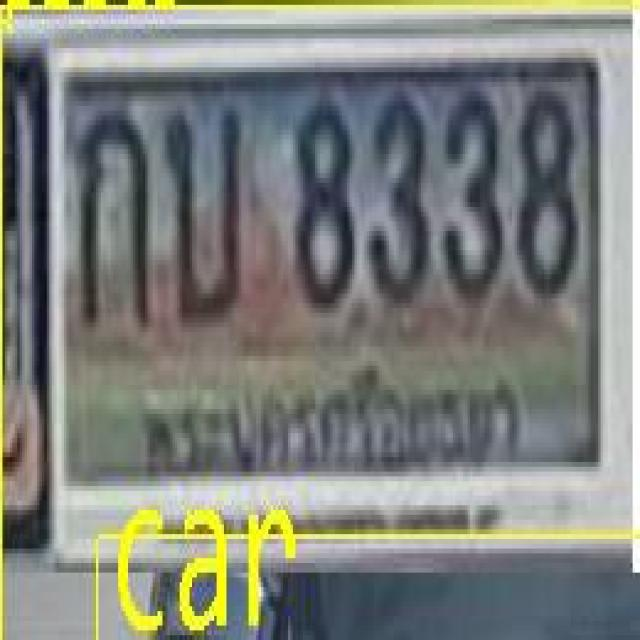license_plate: (45, 36, 640, 578)
